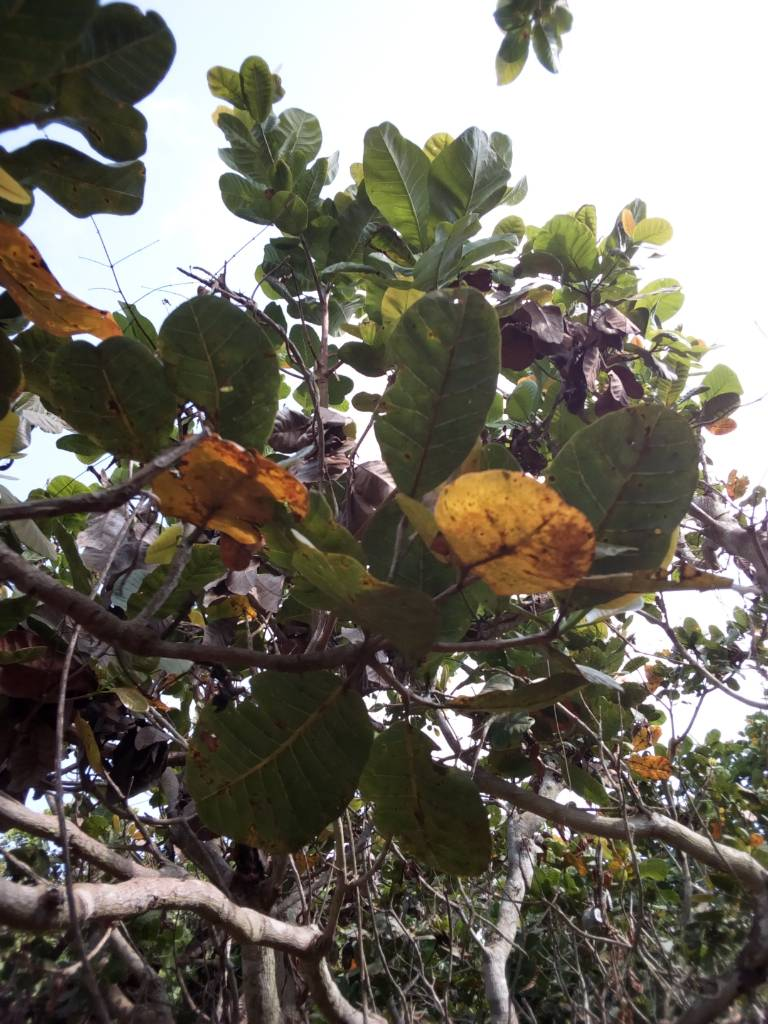Alternariose: (177, 667, 371, 852), (440, 469, 599, 605), (150, 433, 324, 542)
